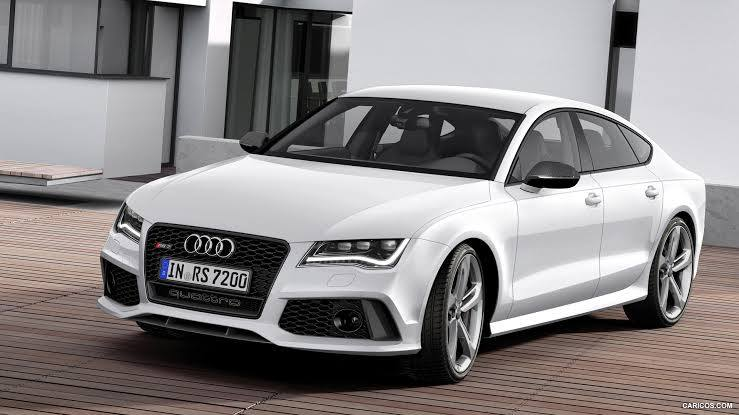audi: (98, 83, 710, 387)
